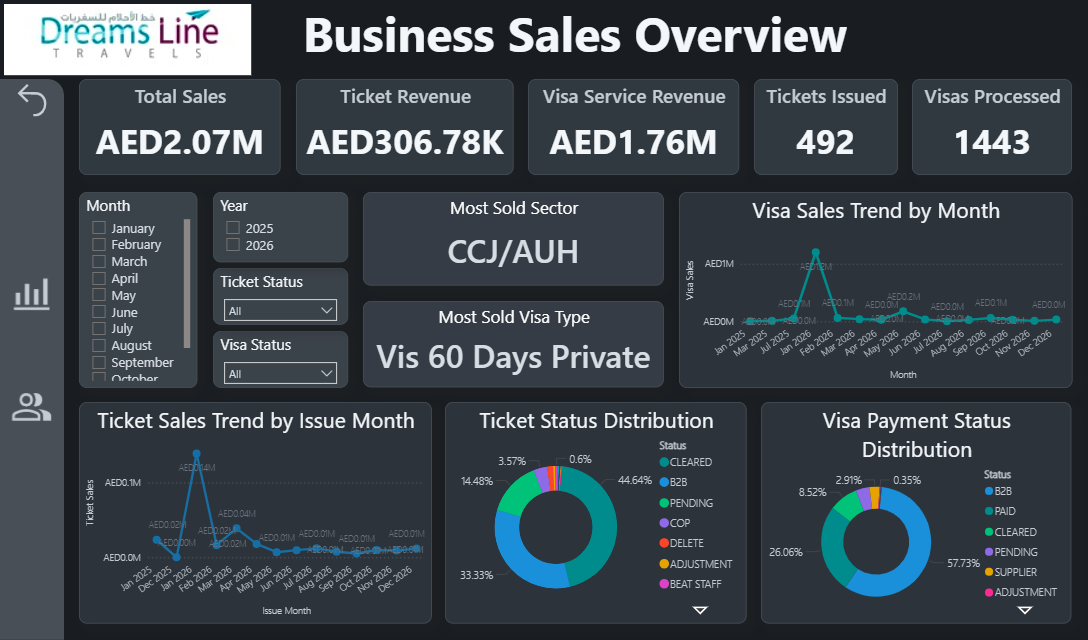

The page's visual inventory and layout, read from the dashboard file:
{"tool":"powerbi","page":{"name":"Business Sales Overview","canvas":[1360,800],"ordinal":0},"visuals":[{"type":"card","title":"Tickets Issued","fields":{"Values":["Measure Table.Total Tickets Issued"]},"box":[942.2,98.5,179.5,120.5],"z":0},{"type":"shape","box":[0,98.8,80,701.2],"z":0,"group":"g1"},{"type":"shape","box":[98.8,0,1240,80],"z":1000},{"type":"card","title":"Visas Processed","fields":{"Values":["Measure Table.Total Visas Processed"]},"box":[1139.8,98.5,200,120.5],"z":1000},{"type":"actionButton","box":[0,98.8,80,52.6],"z":1000,"group":"g1"},{"type":"card","title":"Total Sales","fields":{"Values":["Measure Table.Total Sales"]},"box":[98.8,98.5,251.8,120.5],"z":2000},{"type":"group","id":"g1","title":"Group 2","box":[0,98.8,80,701.2],"z":2000},{"type":"actionButton","box":[0,337.6,80,61.2],"z":2000,"group":"g1"},{"type":"image","box":[0,0,318.8,98.8],"z":3000},{"type":"card","title":"Ticket Revenue","fields":{"Values":["Measure Table.Total Ticket Sales"]},"box":[369.9,98.5,272.3,120.5],"z":3000},{"type":"actionButton","box":[0,477.9,80,61.2],"z":3000,"group":"g1"},{"type":"card","title":"Visa Service Revenue","fields":{"Values":["Measure Table.Total Visa Sales"]},"box":[660.3,98.5,263.9,120.5],"z":4000},{"type":"donutChart","title":"Ticket Status Distribution","fields":{"Category":["Tickets.Status"],"Y":["Measure Table.Ticket Count"]},"box":[556.7,502.1,377.1,277.1],"z":5000},{"type":"donutChart","title":"Visa Payment Status Distribution","fields":{"Y":["Measure Table.Total Visas Processed"],"Category":["Visa.Status"]},"box":[951.8,502.1,388,277.1],"z":6000},{"type":"lineChart","title":"Visa Sales Trend by Month","fields":{"Category":["Visa.Date Hierarchy.Month","Visa.Date Hierarchy.Month Year"],"Y":["Measure Table.Total Visa Sales"]},"box":[848.2,239.4,491.6,244.6],"z":7000},{"type":"lineChart","title":"Ticket Sales Trend by Issue Month","fields":{"Y":["Measure Table.Total Ticket Sales"],"Category":["Tickets.Issue Date Hierarchy.Issued Month Year","Tickets.Issue Date Hierarchy.Issued Month"]},"box":[98.8,502.1,441,277.1],"z":8000},{"type":"card","title":"Most Sold Sector","fields":{"Values":["Min(Tickets.Sector)"]},"box":[454.2,239.4,375.9,116.9],"z":9000},{"type":"card","title":"Most Sold Visa Type","fields":{"Values":["Min(Visa.Type)"]},"box":[454.2,375.6,375.9,108.4],"z":10000},{"type":"slicer","title":"Visa Status","fields":{"Values":["Visa.Status"]},"box":[266.3,412.9,168.7,71.1],"z":11000},{"type":"slicer","title":"Ticket Status","fields":{"Values":["Tickets.Status"]},"box":[266.3,334.6,168.7,71.1],"z":12000},{"type":"slicer","title":"Month","fields":{"Values":["Date_Table.Month"]},"box":[98.8,239.4,148.2,244.6],"z":13000},{"type":"slicer","title":"Year","fields":{"Values":["Date_Table.Year"]},"box":[266.3,239.4,168.7,88],"z":14000}]}

Visuals, with their boxes on the page's 1360x800 design canvas (x1, y1, x2, y2). These are canvas units, not pixel positions in the 1088x640 screenshot, which may show the page scaled, cropped or inside an application window:
"Tickets Issued" card: pyautogui.locateOnScreen(942, 98, 1122, 219)
shape: pyautogui.locateOnScreen(0, 99, 80, 800)
shape: pyautogui.locateOnScreen(99, 0, 1339, 80)
"Visas Processed" card: pyautogui.locateOnScreen(1140, 98, 1340, 219)
actionButton: pyautogui.locateOnScreen(0, 99, 80, 151)
"Total Sales" card: pyautogui.locateOnScreen(99, 98, 351, 219)
"Group 2" group: pyautogui.locateOnScreen(0, 99, 80, 800)
actionButton: pyautogui.locateOnScreen(0, 338, 80, 399)
image: pyautogui.locateOnScreen(0, 0, 319, 99)
"Ticket Revenue" card: pyautogui.locateOnScreen(370, 98, 642, 219)
actionButton: pyautogui.locateOnScreen(0, 478, 80, 539)
"Visa Service Revenue" card: pyautogui.locateOnScreen(660, 98, 924, 219)
"Ticket Status Distribution" donutChart: pyautogui.locateOnScreen(557, 502, 934, 779)
"Visa Payment Status Distribution" donutChart: pyautogui.locateOnScreen(952, 502, 1340, 779)
"Visa Sales Trend by Month" lineChart: pyautogui.locateOnScreen(848, 239, 1340, 484)
"Ticket Sales Trend by Issue Month" lineChart: pyautogui.locateOnScreen(99, 502, 540, 779)
"Most Sold Sector" card: pyautogui.locateOnScreen(454, 239, 830, 356)
"Most Sold Visa Type" card: pyautogui.locateOnScreen(454, 376, 830, 484)
"Visa Status" slicer: pyautogui.locateOnScreen(266, 413, 435, 484)
"Ticket Status" slicer: pyautogui.locateOnScreen(266, 335, 435, 406)
"Month" slicer: pyautogui.locateOnScreen(99, 239, 247, 484)
"Year" slicer: pyautogui.locateOnScreen(266, 239, 435, 327)
